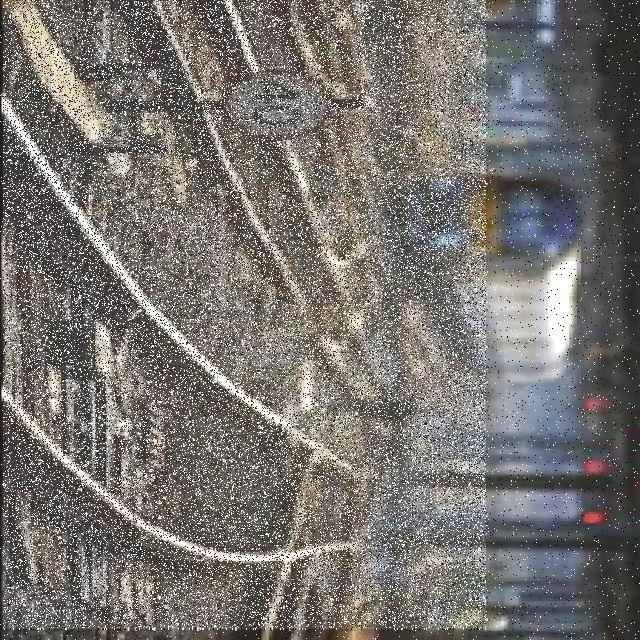rail: (4, 1, 487, 630)
